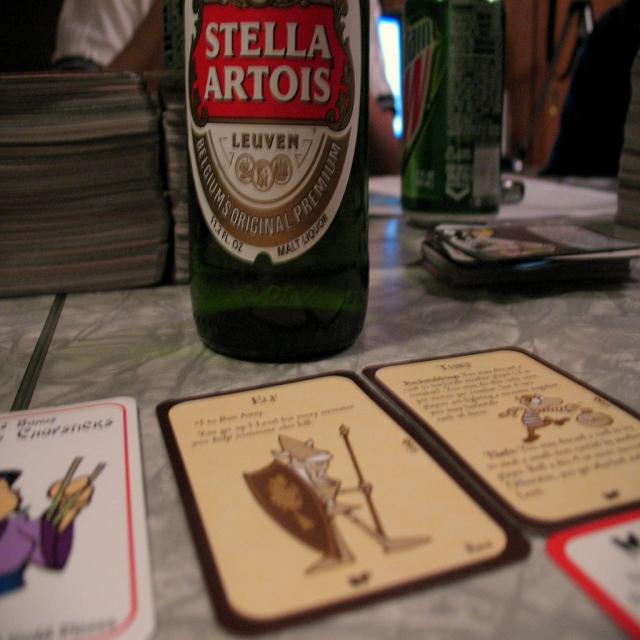stellaartois: (189, 2, 359, 248)
